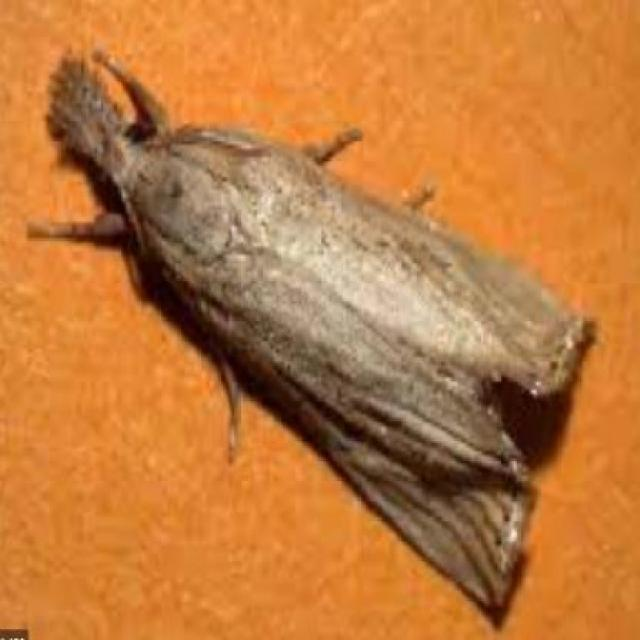stem-borer: (22, 35, 596, 617)
